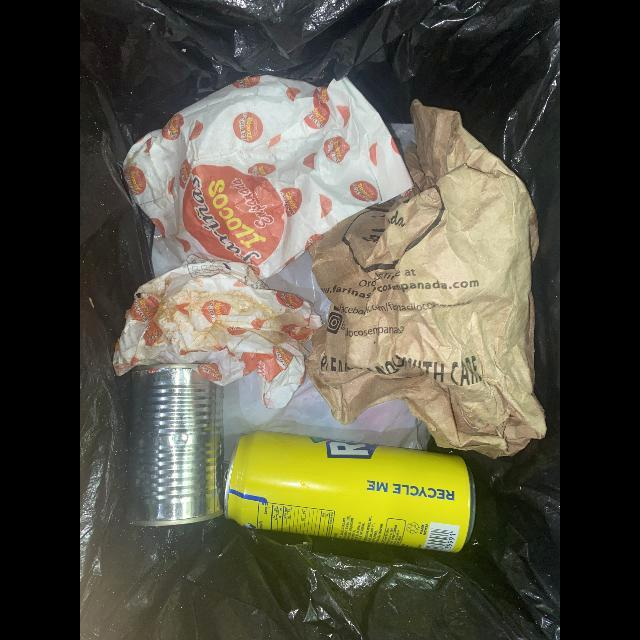aluminum: (226, 431, 475, 553), (124, 365, 224, 530)
paper: (305, 100, 547, 461), (121, 75, 414, 281), (113, 261, 323, 410)
